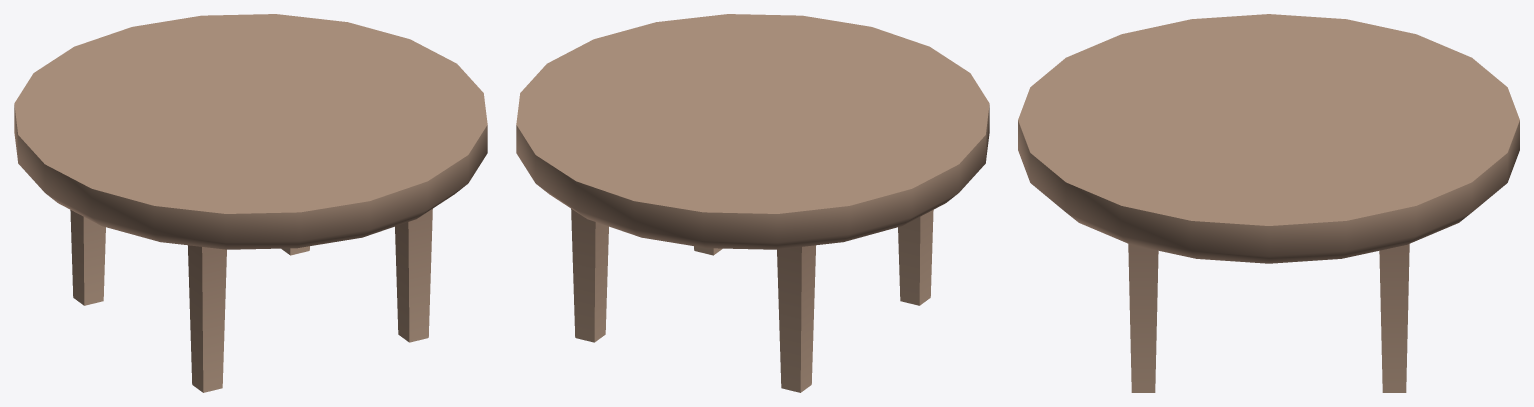
The model's file is table-coffee-round.glb.
3 views of the same model, side by side, from view 1: azimuth 30°, elevation 25°; view 2: azimuth 150°, elevation 25°; view 3: azimuth 270°, elevation 25° (orthographic). The views are drawn at different scales.
Parts seen in each view (by area): view 1: table-coffee-round; view 2: table-coffee-round; view 3: table-coffee-round.
Part boxes in pixels (x1,y1,x2,y2): table-coffee-round: [14, 14, 487, 392]; table-coffee-round: [516, 14, 989, 392]; table-coffee-round: [1018, 14, 1519, 392].
Size of the model in its own units: 0.8 by 0.378 by 0.8.
